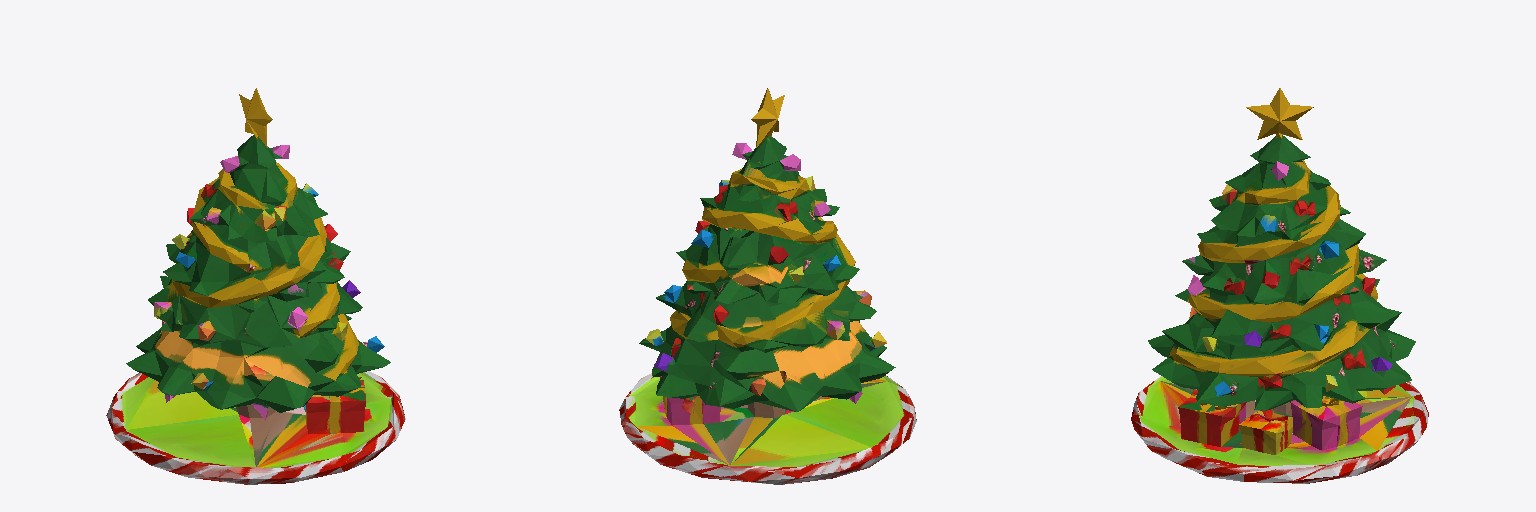
3 views of the same model, side by side, from view 1: azimuth 30°, elevation 25°; view 2: azimuth 150°, elevation 25°; view 3: azimuth 270°, elevation 25° (orthographic).
Parts seen in each view (by area): view 1: tripo_node_cdca507c-a126-43d7-80ca-7f29fc204ceb; view 2: tripo_node_cdca507c-a126-43d7-80ca-7f29fc204ceb; view 3: tripo_node_cdca507c-a126-43d7-80ca-7f29fc204ceb.
Part boxes in pixels (x1,y1,x2,y2): tripo_node_cdca507c-a126-43d7-80ca-7f29fc204ceb: (106,88,405,484); tripo_node_cdca507c-a126-43d7-80ca-7f29fc204ceb: (619,88,916,484); tripo_node_cdca507c-a126-43d7-80ca-7f29fc204ceb: (1131,88,1428,483).
Bounding box in the file's own units: 0.7993 × 1 × 0.7989.
Materials: 1 (1 with a texture image).